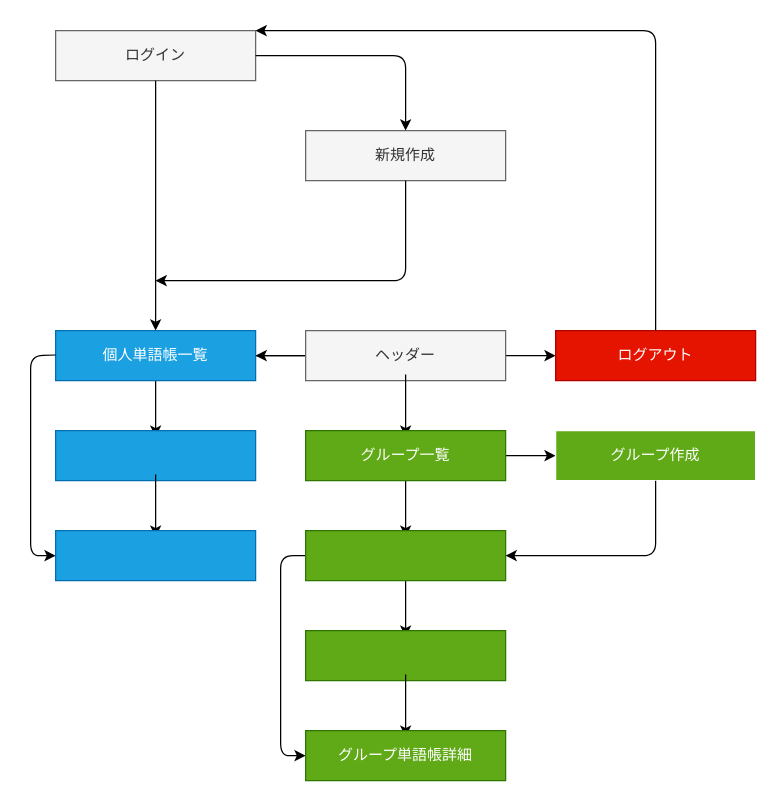
The diagram is 778 pixels wide and 803 high, and some of its shapes have lost their labels. The box of each missing label's shape, as (x1, y1, x2, y2) in pixels:
グループ単語帳: (304, 629, 506, 681)
グループ単語帳一覧: (304, 529, 506, 581)
個人単語帳作成: (54, 429, 256, 481)
個人単語帳詳細: (54, 529, 256, 581)
